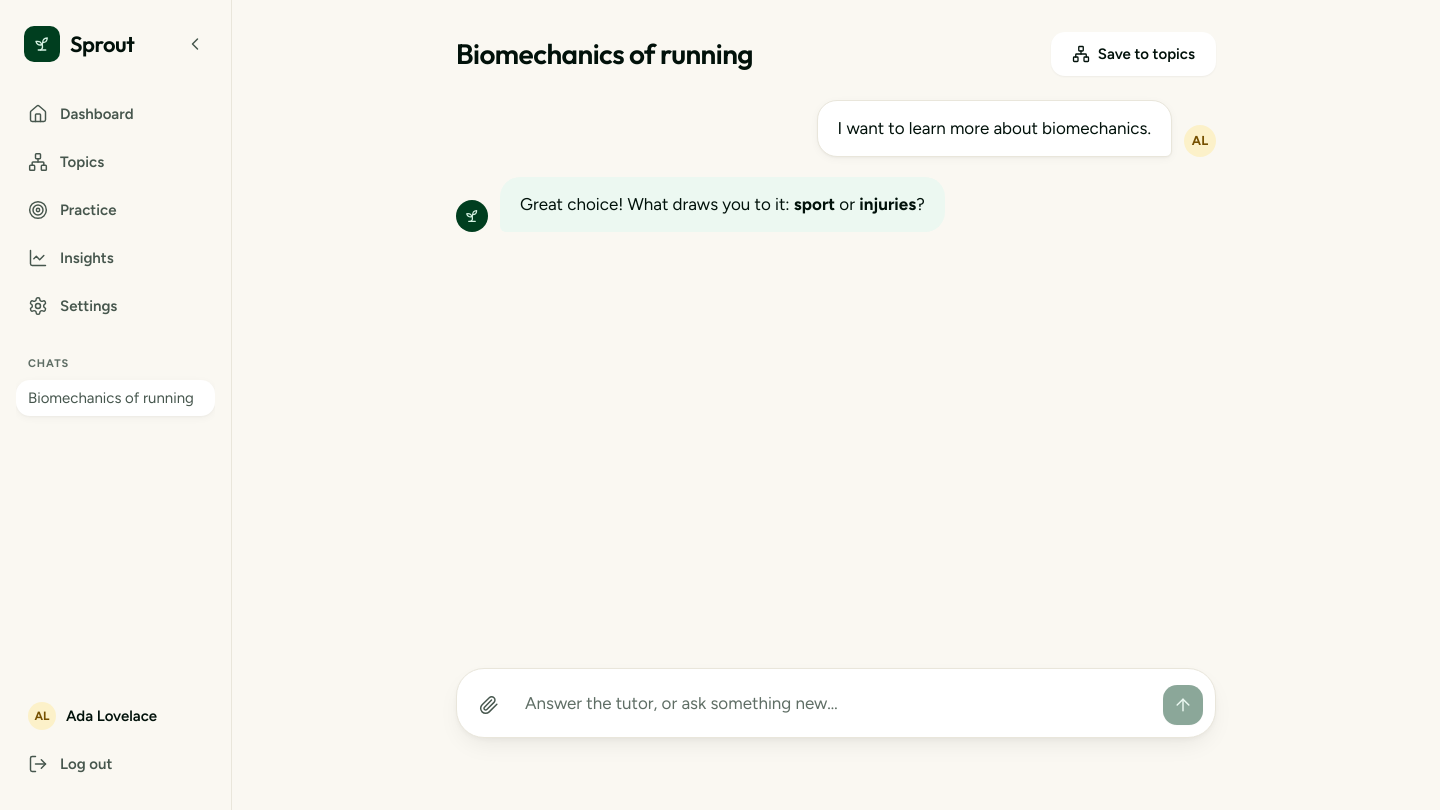
ConversationView › keeps your text when Sprout’s AI isn’t working
Type "Mostly injuries" into the text box with test id "composer-input". click: (836, 703)
box: [517,681,1155,725]
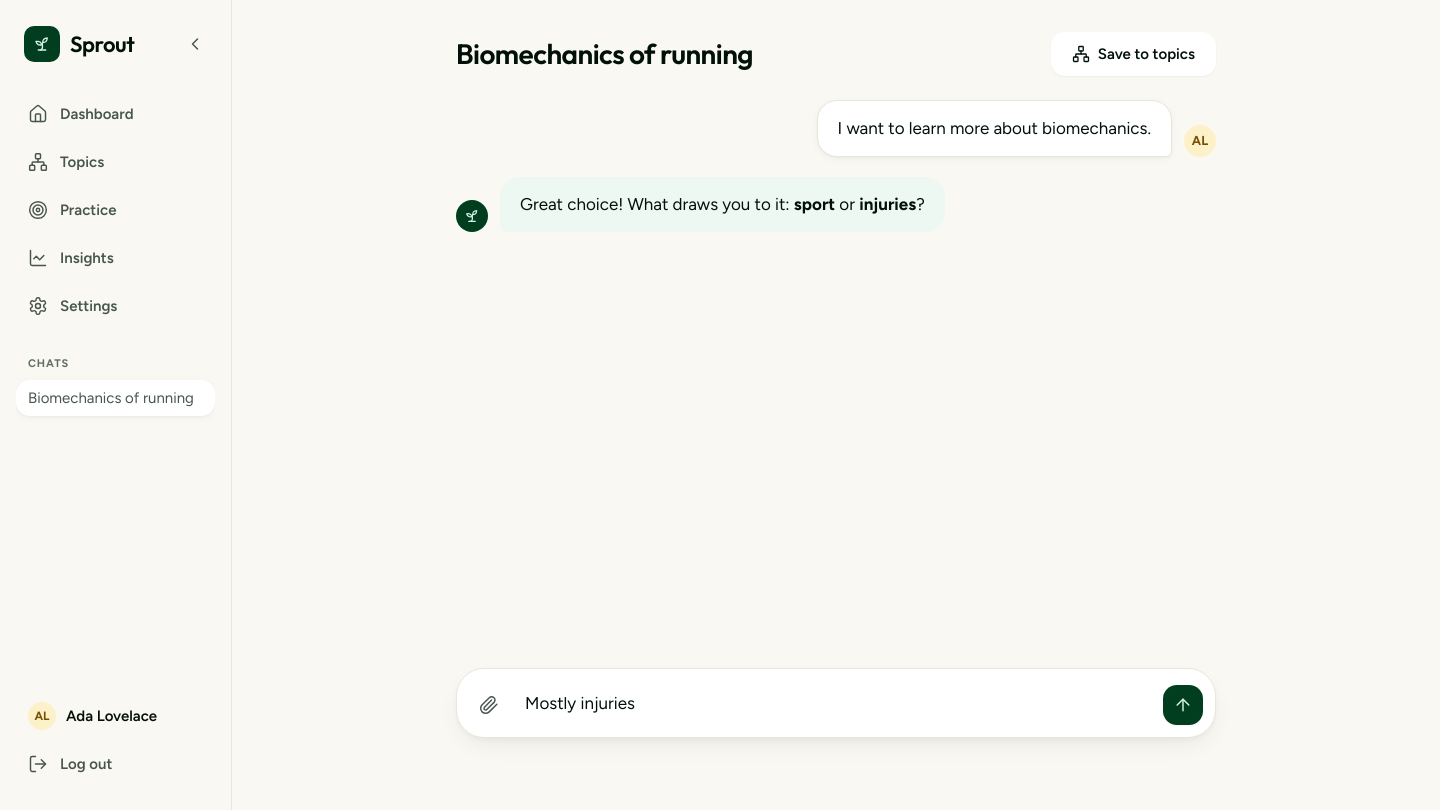
Click the button with test id "composer-send". click: (1183, 705)
box: [1163,685,1203,725]
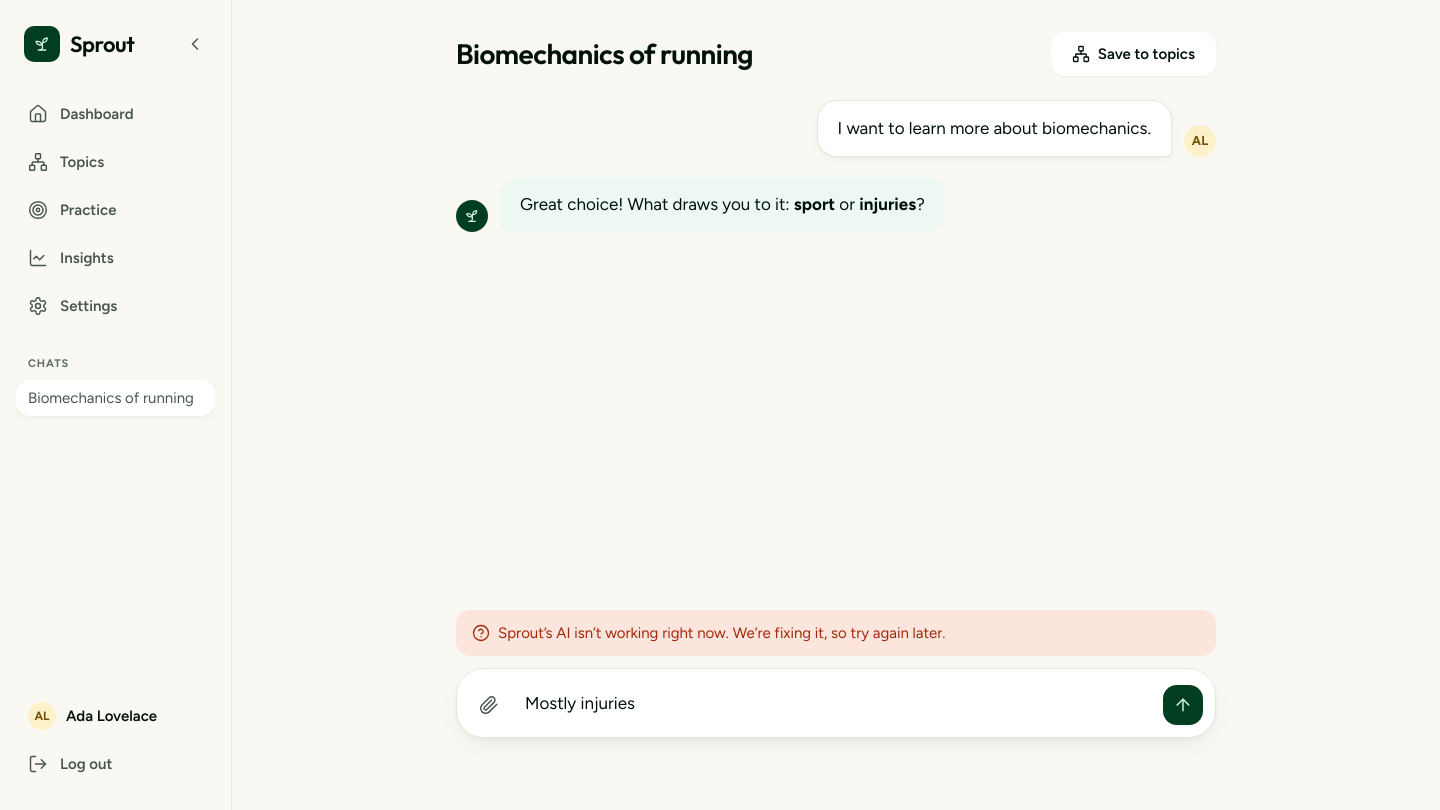
expect the number of elements with test id "chat-message" is 2: met, box [817,100,1216,157]; [456,177,945,232]
expect the message with test id "form-error" reads "Sprout’s AI isn’t working right now. We’re fixing it, so try again later.": met, box [498,624,946,642]
